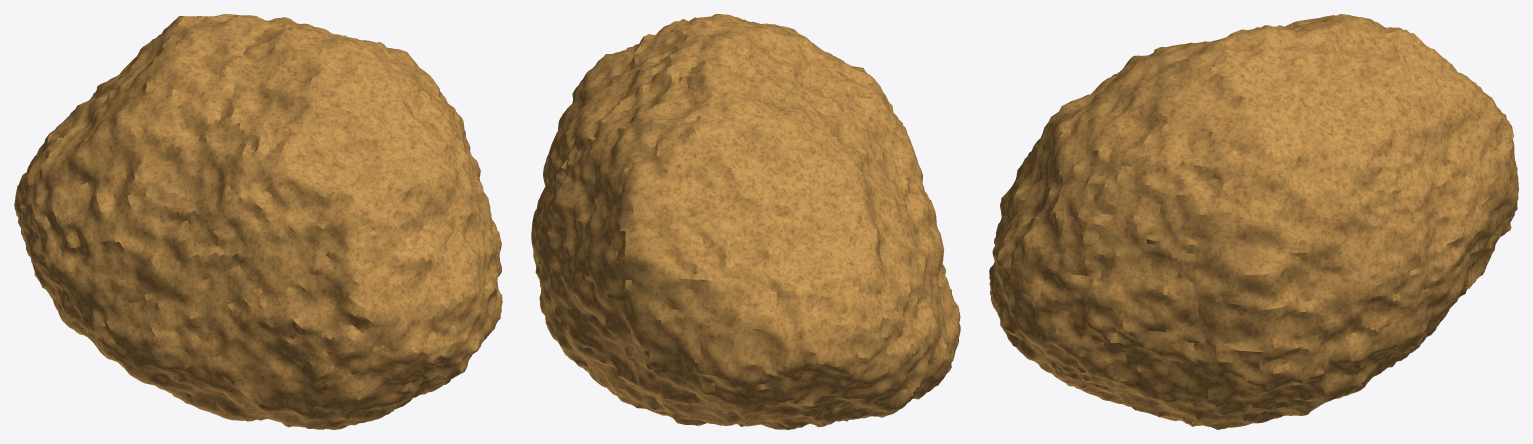
Rendered from gold_nugget.glb.
3 renders of one model, left to right at view 1: azimuth 30°, elevation 25°; view 2: azimuth 150°, elevation 25°; view 3: azimuth 270°, elevation 25°, orthographic. The views are drawn at different scales.
Visible parts, largest first — view 1: rock; view 2: rock; view 3: rock.
Boxes of the visible parts, x1,y1,x2,y2 form: rock: (14,14,502,429); rock: (531,14,960,429); rock: (989,14,1518,429).
Bounding box in the file's own units: 1.6 × 1.46 × 1.82.
1 material, 1 textured.
